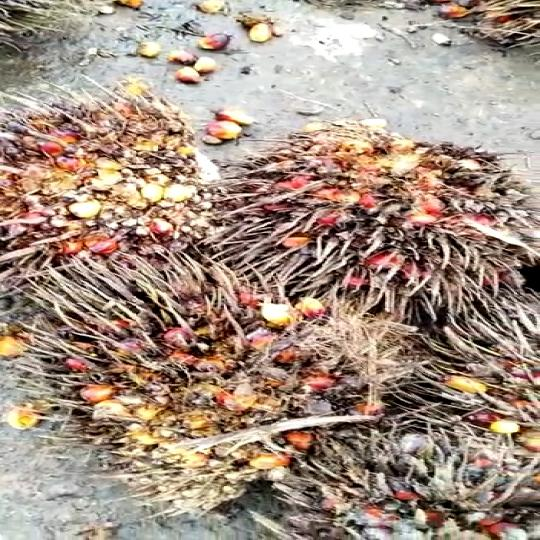terlalu masak: (0, 255, 395, 513), (215, 121, 540, 316), (0, 73, 199, 255)
